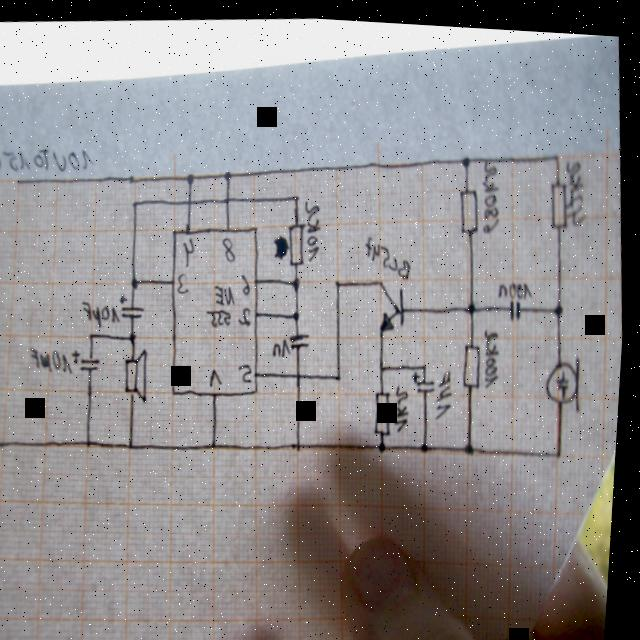capacitor: (74, 345, 106, 372), (121, 289, 150, 318), (416, 364, 440, 388), (293, 326, 315, 346), (510, 291, 528, 315)
crossover: (297, 366, 308, 376), (225, 191, 235, 201), (188, 195, 195, 203)
junction: (555, 295, 568, 311), (468, 435, 481, 450), (295, 435, 308, 449), (469, 294, 480, 309), (294, 271, 304, 287), (462, 149, 474, 162), (224, 166, 236, 178), (132, 274, 143, 287), (131, 328, 142, 341), (425, 434, 435, 448), (558, 442, 569, 454), (188, 169, 198, 182), (383, 435, 393, 448), (295, 306, 305, 318), (214, 437, 224, 448), (381, 357, 391, 368), (337, 273, 346, 285), (294, 188, 303, 199), (133, 197, 142, 206), (424, 357, 433, 366), (555, 145, 562, 156), (90, 436, 97, 446), (132, 439, 139, 448), (92, 329, 99, 337), (340, 369, 347, 377)
resistor: (459, 180, 484, 230), (463, 335, 488, 384), (375, 383, 398, 431), (550, 173, 572, 223), (289, 217, 312, 263)
terminal: (13, 173, 27, 187), (0, 435, 9, 450)
text: (0, 138, 98, 177), (365, 227, 416, 277), (479, 153, 506, 228), (565, 150, 593, 221), (483, 320, 508, 384), (207, 280, 241, 325), (304, 194, 327, 259), (33, 344, 79, 375), (84, 295, 125, 329), (436, 362, 461, 415), (395, 377, 416, 429), (500, 272, 538, 296), (223, 232, 241, 260), (184, 233, 200, 264), (274, 333, 296, 354), (179, 268, 195, 292), (242, 359, 258, 381), (240, 302, 256, 324), (212, 364, 228, 385), (243, 269, 256, 293)
transistor: (377, 273, 412, 329)
